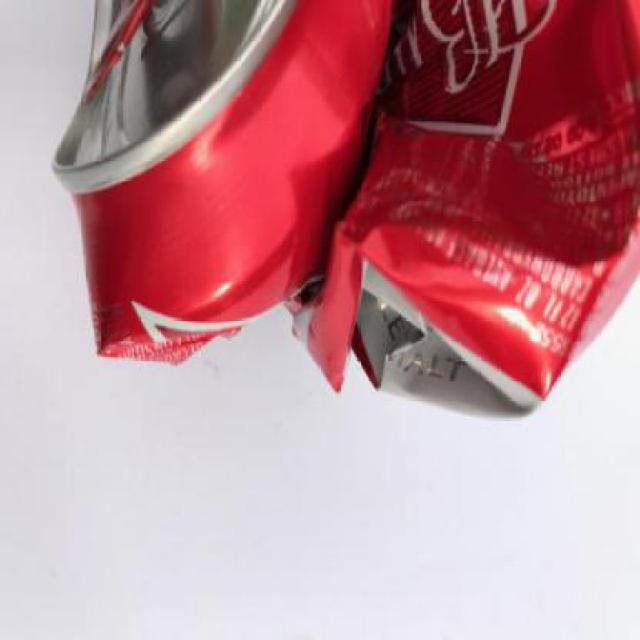METAL: (52, 2, 638, 423)
